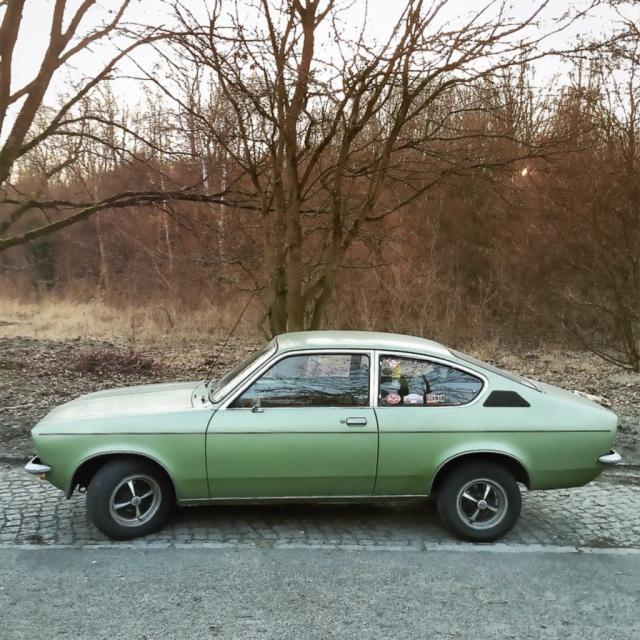car: (18, 328, 622, 540)
